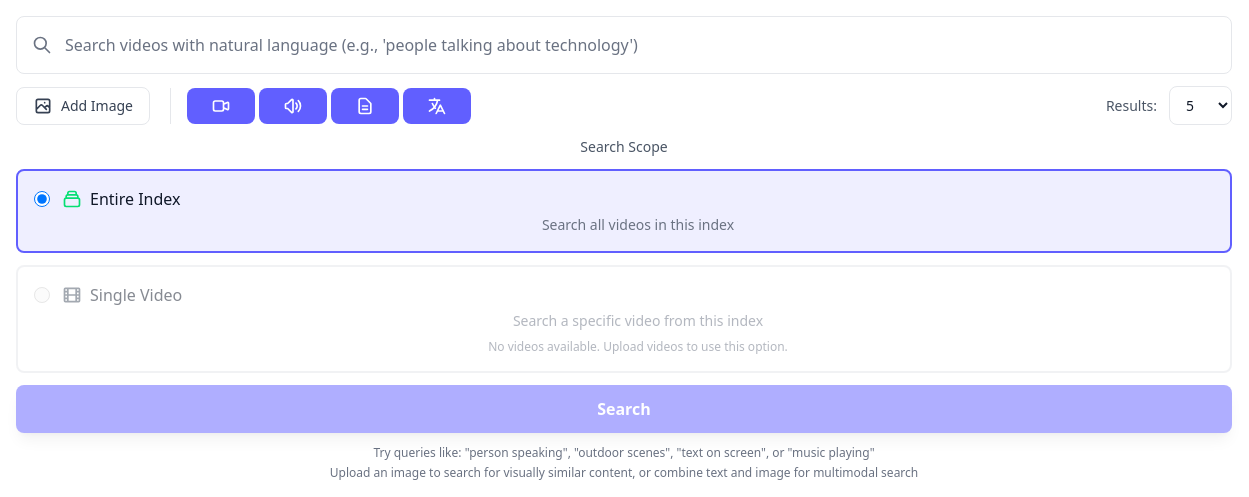
SearchBar › clears query when clear button is clicked
Step 1. Replace the text in the field with placeholder "Search videos with natural language" with "test query" → {"x": 624, "y": 45}, box [16,16,1232,74]
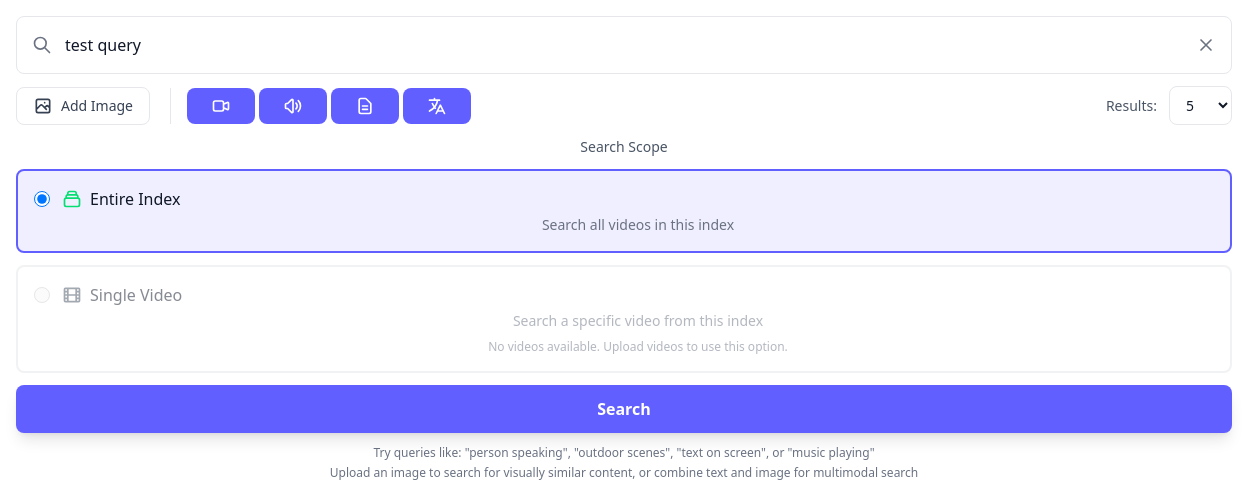
Step 2. Click the button titled "Clear" → {"x": 1214, "y": 45}, box [1196,16,1232,74]
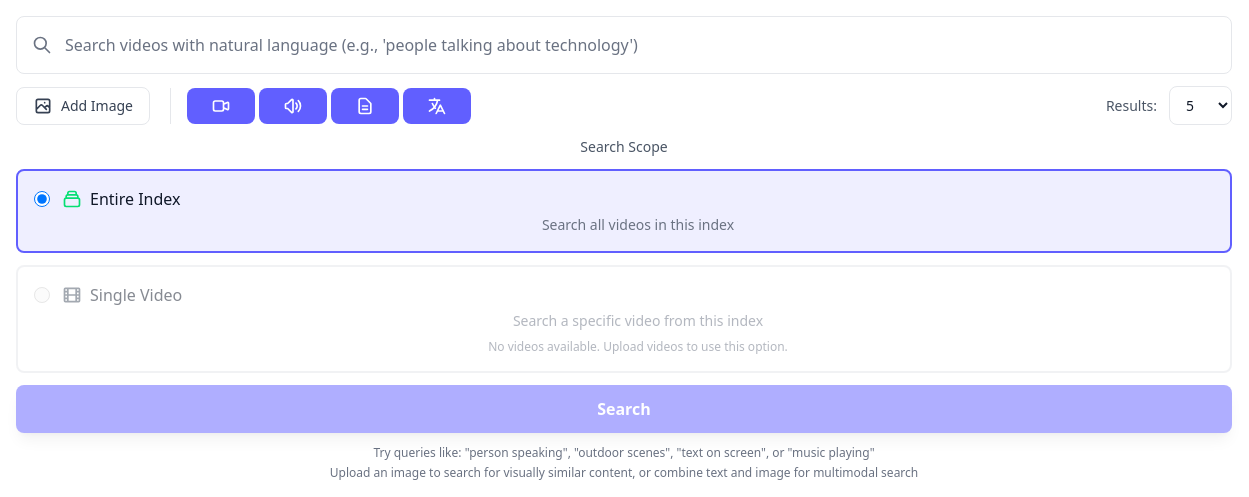
Check: the field with placeholder "Search videos with natural language" is empty, box [16,16,1232,74]
